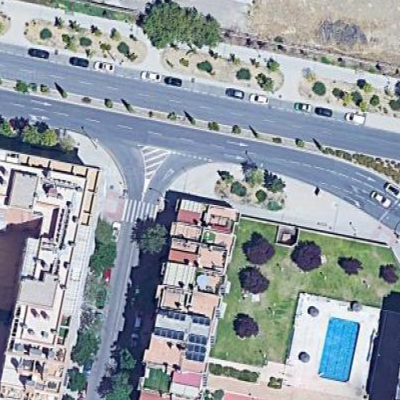tree: (138, 1, 184, 48), (88, 219, 119, 275), (186, 4, 223, 49), (132, 218, 169, 257), (20, 124, 66, 155), (67, 329, 104, 365), (241, 231, 279, 266), (289, 239, 323, 274), (231, 309, 265, 343), (235, 266, 273, 295), (107, 370, 141, 400), (80, 279, 110, 308), (63, 366, 96, 392), (335, 253, 364, 277), (114, 343, 139, 368), (377, 261, 399, 286), (268, 175, 285, 195), (230, 180, 248, 198), (255, 187, 268, 205)
